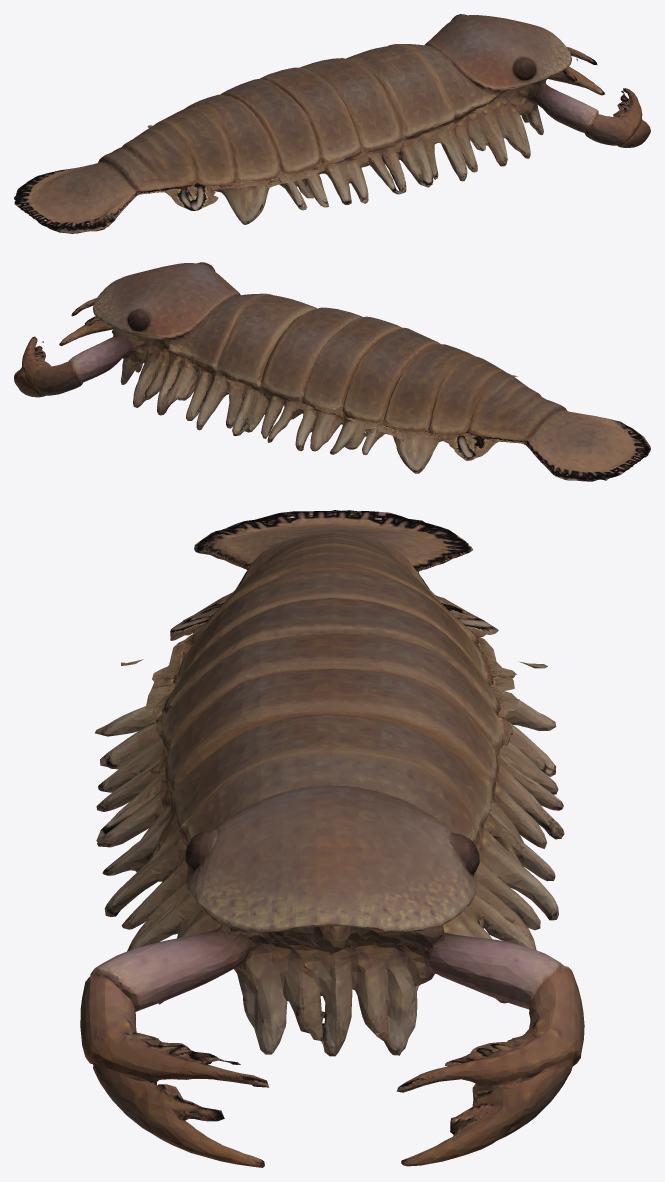
The picture shows the model from 3 angles, top to bottom: view 1: azimuth 30°, elevation 25°; view 2: azimuth 150°, elevation 25°; view 3: azimuth 270°, elevation 25°; orthographic projection. The views are drawn at different scales.
Parts seen in each view (by area): view 1: world; view 2: world; view 3: world.
Boxes of the visible parts, x1,y1,x2,y2 form: world: (14, 14, 650, 233); world: (14, 262, 650, 481); world: (80, 510, 584, 1167).
Bounding box in the file's own units: 0.9996 × 0.1891 × 0.3671.
Materials: 1 (1 with a texture image).
